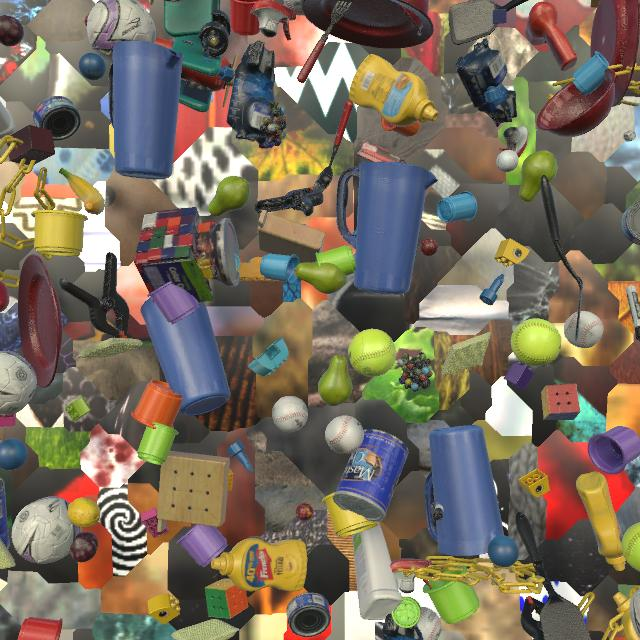ycb_002_master_chef_can: (333, 429, 409, 522), (0, 478, 10, 549)
ycb_006_mustard_bottle: (349, 54, 439, 127), (211, 538, 307, 591), (576, 471, 626, 571), (613, 592, 640, 640)
ycb_007_tuna_fish_can: (33, 96, 81, 141), (286, 592, 331, 637), (621, 200, 640, 245)
ycb_008_pudding_box: (357, 140, 406, 163)
ycb_011_banana: (59, 168, 105, 215)
ycb_013_apple: (0, 280, 10, 312)
ycb_014_lemon: (67, 498, 101, 528)
ycb_016_pear: (519, 150, 557, 202), (318, 354, 352, 406), (294, 261, 347, 294), (208, 176, 250, 216)
ycb_018_plum: (69, 532, 98, 562), (0, 15, 24, 47)
